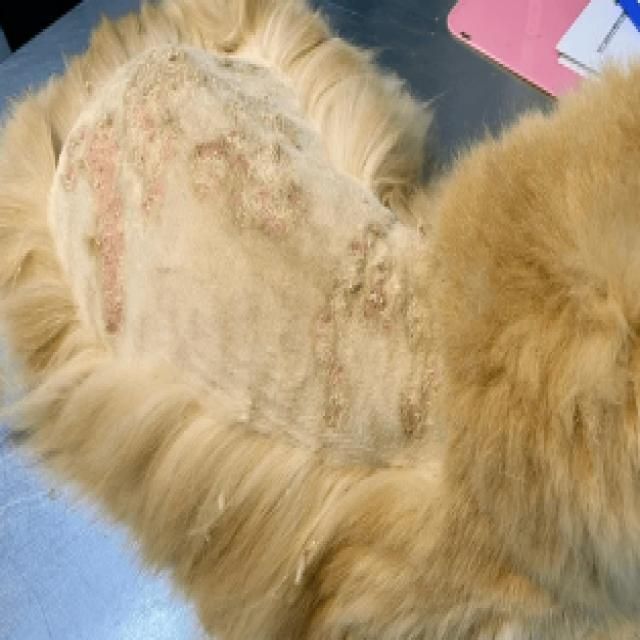Mange: (123, 49, 206, 215), (65, 114, 128, 330), (190, 142, 309, 234), (400, 390, 431, 446), (364, 212, 392, 256), (368, 282, 394, 322), (346, 276, 372, 300)
